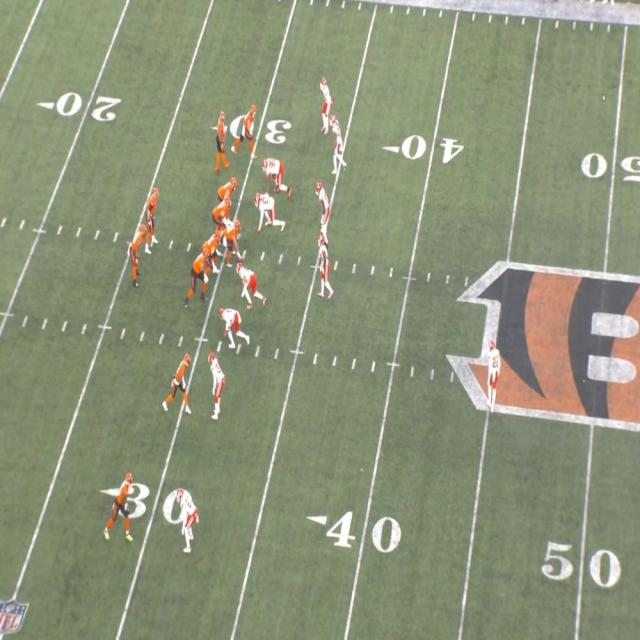center: (226, 220, 246, 257)
db: (174, 498, 200, 555), (210, 356, 228, 416), (331, 116, 346, 172), (322, 81, 337, 132)
lb: (315, 182, 331, 246), (317, 236, 333, 295)
qb: (145, 189, 164, 242)
skill: (104, 473, 139, 538), (164, 355, 193, 408), (127, 224, 145, 286), (235, 110, 258, 150), (213, 110, 227, 150)
